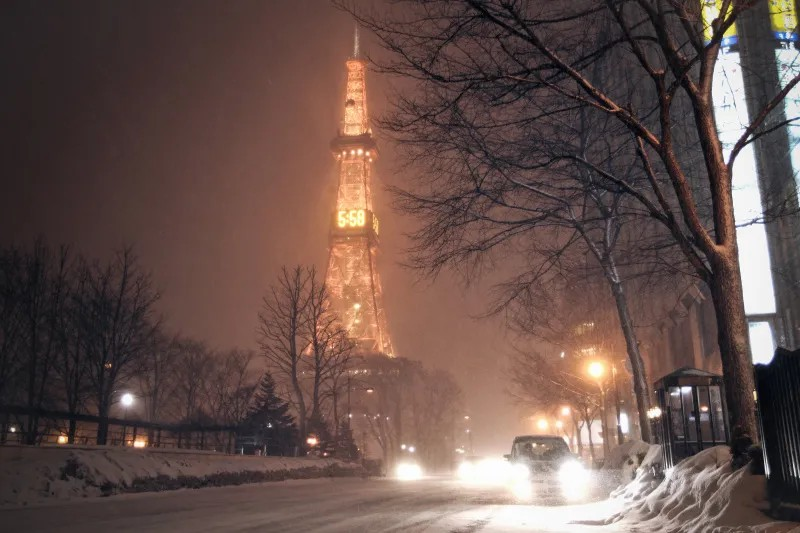Tokyo: (311, 17, 397, 362)
